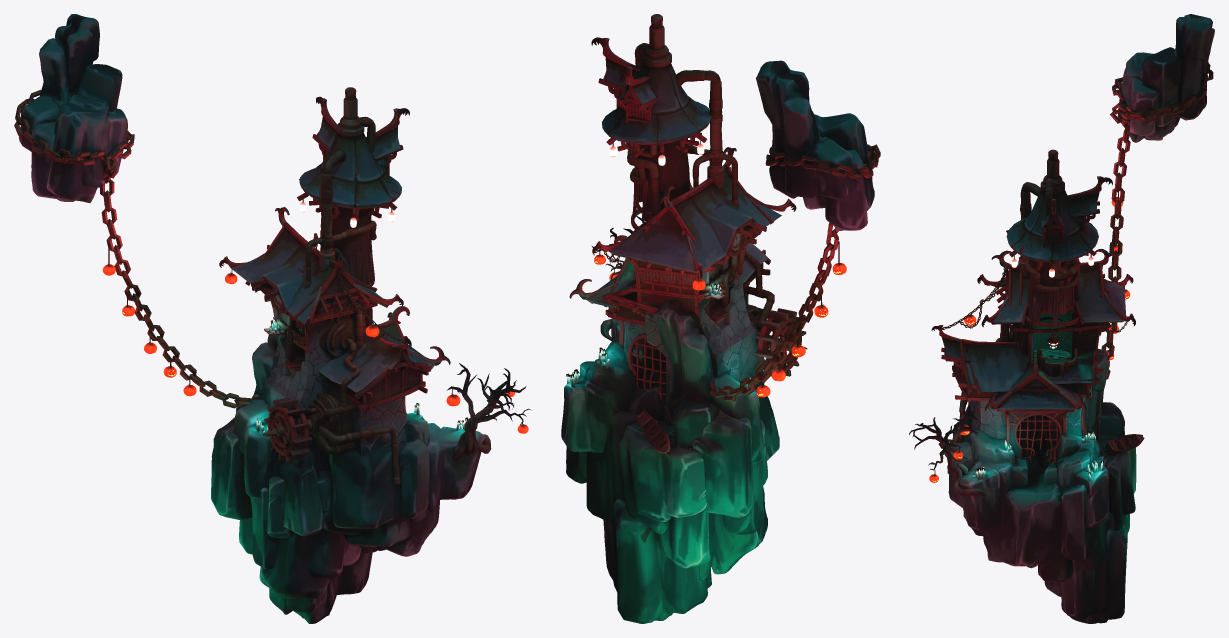
File: haunted-house.glb
The picture shows the model from 3 angles, left to right: view 1: azimuth 30°, elevation 25°; view 2: azimuth 150°, elevation 25°; view 3: azimuth 270°, elevation 25°; orthographic projection. The views are drawn at different scales.
Parts seen in each view (by area): view 1: Cube.003, Cube.006, Cube.002; view 2: Cube.003, Cube.006, Cube.002; view 3: Cube.003, Cube.006, Cube.002.
Boxes of the visible parts, x1=… form: Cube.003: x1=19, y1=14, x2=531, y2=623; Cube.006: x1=14, y1=87, x2=522, y2=484; Cube.002: x1=102, y1=187, x2=528, y2=433; Cube.003: x1=561, y1=60, x2=874, y2=623; Cube.006: x1=567, y1=14, x2=880, y2=453; Cube.002: x1=566, y1=126, x2=846, y2=397; Cube.003: x1=909, y1=14, x2=1214, y2=623; Cube.006: x1=931, y1=62, x2=1213, y2=480; Cube.002: x1=929, y1=197, x2=1130, y2=482.
Size of the model in its own units: 24.33 by 36.53 by 19.14.
Materials: 3 (3 with a texture image).
